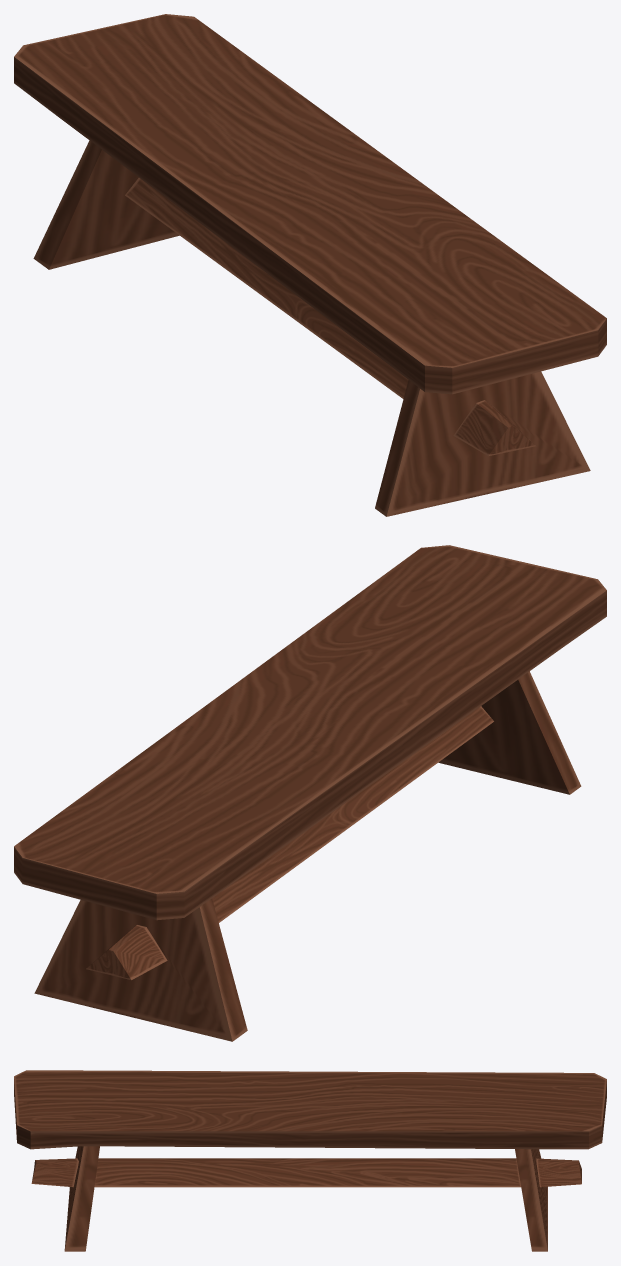
File: Banc.FBX
3 renders of one model, top to bottom at view 1: azimuth 30°, elevation 25°; view 2: azimuth 150°, elevation 25°; view 3: azimuth 270°, elevation 25°, orthographic. The views are drawn at different scales.
Parts seen in each view (by area): view 1: Box005; view 2: Box005; view 3: Box005.
Boxes of the visible parts, x1,y1,x2,y2 form: Box005: [14, 14, 606, 516]; Box005: [14, 545, 606, 1041]; Box005: [14, 1070, 606, 1251].
Bounding box in the file's own units: 38.4 × 31.73 × 145.
